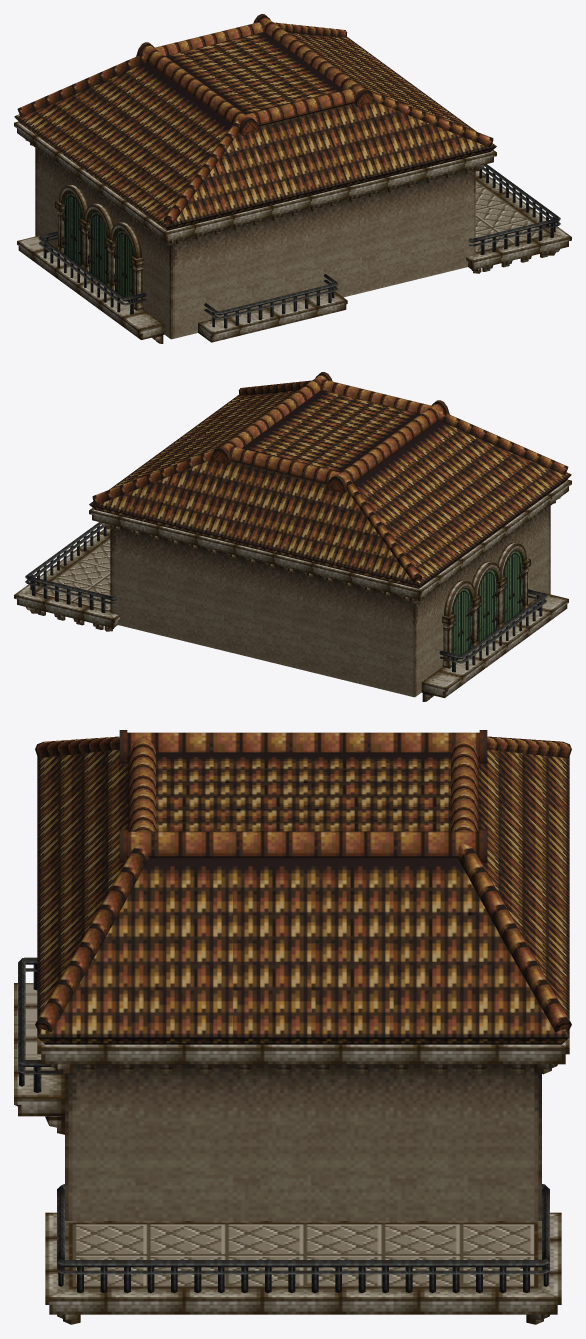
The model's file is EnvBdgMD_Sea_A_Outdoor_Pub_A_2F.FBX.
3 renders of one model, top to bottom at view 1: azimuth 30°, elevation 25°; view 2: azimuth 150°, elevation 25°; view 3: azimuth 270°, elevation 25°, orthographic. The views are drawn at different scales.
Parts seen in each view (by area): view 1: EnvBdgMD_Sea_A_Outdoor_Pub_A_2F; view 2: EnvBdgMD_Sea_A_Outdoor_Pub_A_2F; view 3: EnvBdgMD_Sea_A_Outdoor_Pub_A_2F.
Part boxes in pixels (bbox=[...]): EnvBdgMD_Sea_A_Outdoor_Pub_A_2F: bbox=[14, 14, 571, 343]; EnvBdgMD_Sea_A_Outdoor_Pub_A_2F: bbox=[14, 372, 571, 701]; EnvBdgMD_Sea_A_Outdoor_Pub_A_2F: bbox=[14, 730, 571, 1324].
Bounding box in the file's own units: 1090 × 486 × 713.
2 materials, 2 textured.
